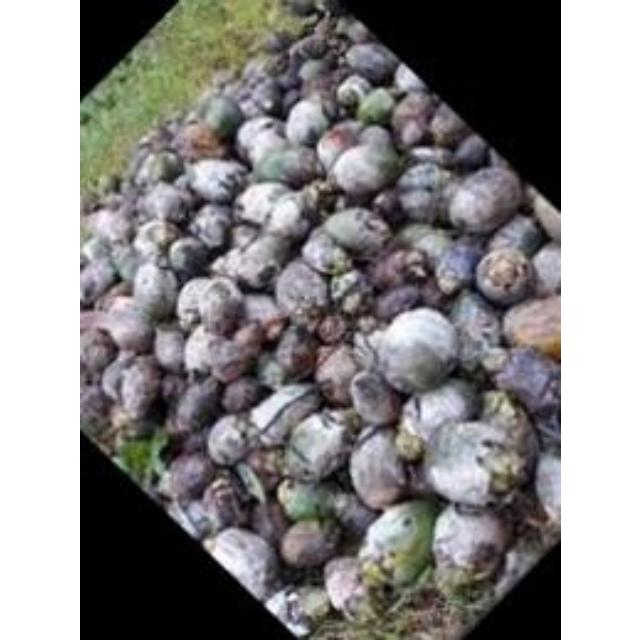damaged: (423, 418, 522, 507), (370, 308, 460, 394), (428, 503, 507, 587), (204, 527, 280, 599), (346, 427, 412, 508), (397, 380, 477, 446), (281, 410, 353, 482), (446, 166, 520, 236), (492, 347, 558, 421), (247, 383, 319, 447), (328, 137, 399, 199), (222, 232, 292, 290), (319, 206, 395, 258), (446, 292, 500, 358), (202, 324, 262, 382), (394, 160, 450, 222), (272, 258, 328, 316), (346, 369, 402, 425), (278, 518, 340, 568), (276, 478, 346, 522), (235, 180, 297, 226), (313, 346, 362, 404), (204, 414, 256, 468), (367, 246, 428, 292), (200, 474, 248, 532), (117, 358, 161, 420), (184, 158, 246, 202), (100, 304, 154, 354), (432, 241, 482, 295), (130, 262, 178, 318), (389, 92, 439, 144), (170, 378, 218, 432), (251, 148, 319, 186), (163, 452, 214, 502), (234, 116, 286, 164), (284, 98, 330, 146), (272, 326, 316, 376), (175, 277, 218, 327), (299, 230, 347, 274), (332, 492, 376, 540), (132, 219, 184, 259), (188, 204, 234, 248), (140, 182, 190, 222), (248, 500, 288, 548), (372, 285, 422, 323), (87, 203, 131, 244), (79, 258, 117, 304), (79, 328, 115, 376), (244, 444, 284, 486), (220, 376, 262, 414), (166, 238, 208, 276), (152, 326, 185, 372), (413, 276, 447, 310), (174, 426, 208, 458), (314, 314, 348, 344), (227, 221, 259, 251), (158, 373, 186, 405), (262, 319, 286, 343)
